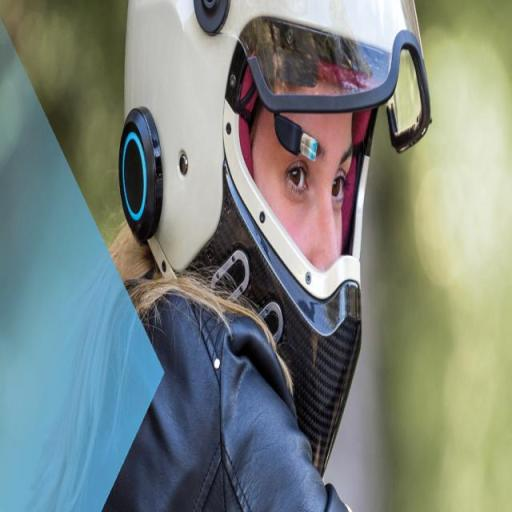Helmet: (121, 0, 434, 469)
